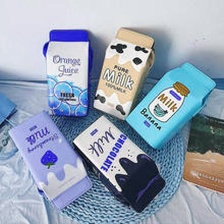carton: (71, 113, 169, 215), (6, 107, 95, 213), (123, 59, 217, 151), (90, 24, 156, 122), (40, 24, 92, 119)
